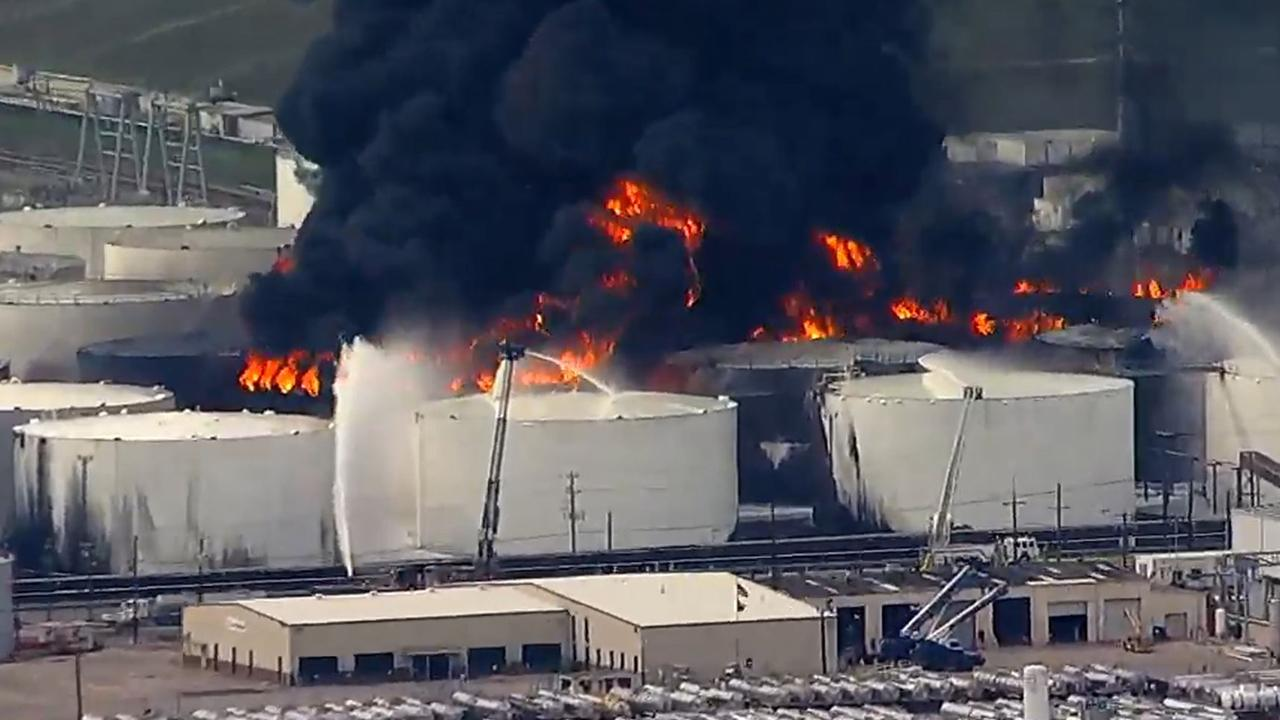Fire: (562, 167, 713, 300), (428, 325, 608, 403), (226, 348, 352, 415), (960, 281, 1077, 353), (731, 296, 844, 362), (822, 215, 884, 291), (1122, 264, 1210, 313), (887, 289, 946, 330)
